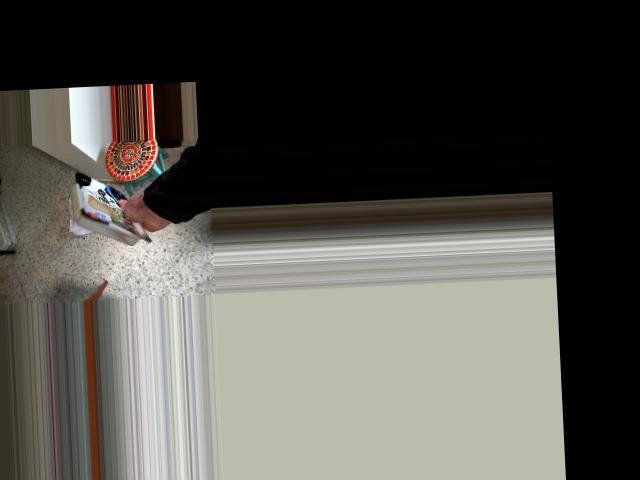cheese: (65, 154, 170, 257)
